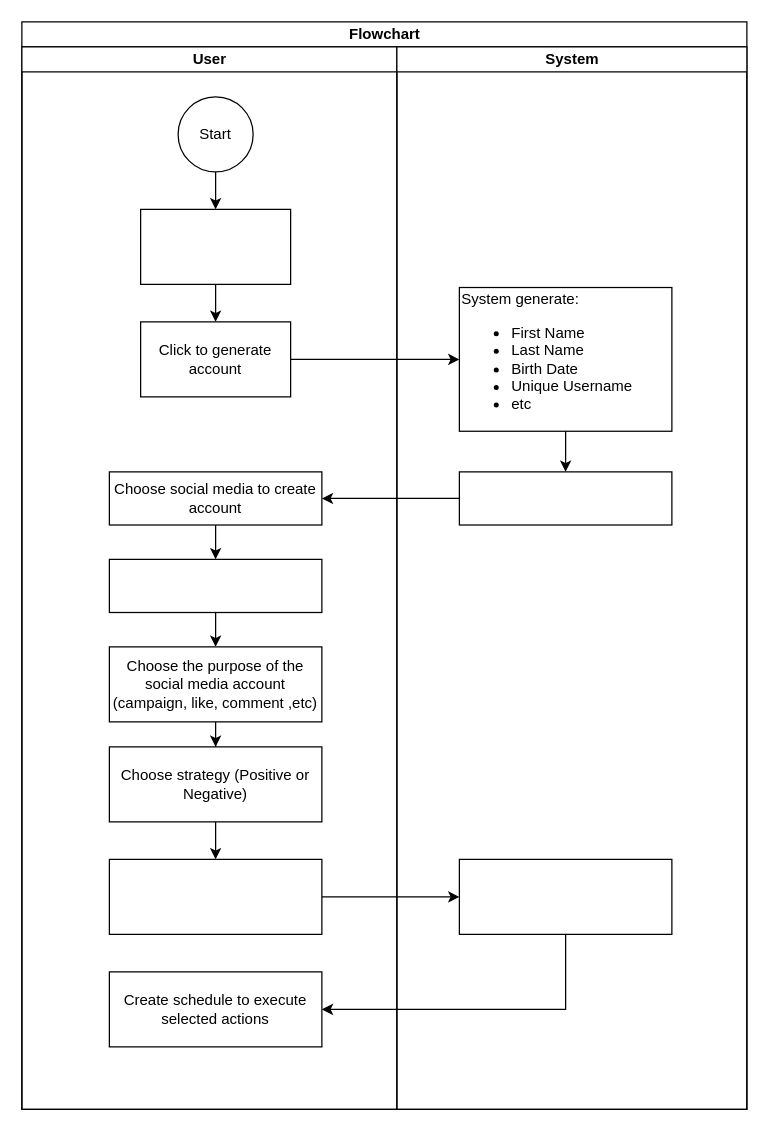
Image size: 769x1131. Some labels were removed from this diagram. The shapes that lost their labels are listed below. From the top down, each one's centre as x and y in pixels, then its label:
At point 215,246: "Login to system".
At point 565,498: "Generate cookie and fingerprient".
At point 215,585: "Email verification".
At point 215,896: "Fill in prompt based on sicial media usage needs".
At point 565,896: "Ai generates content based on provided prompt".
